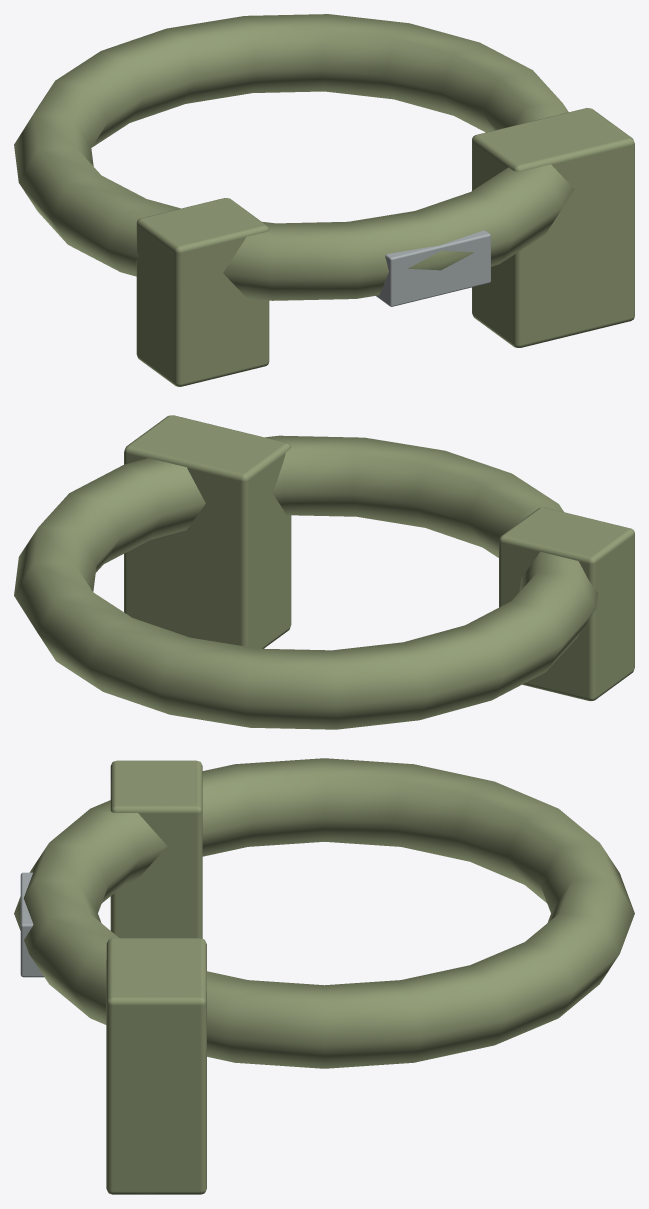
Rendered from backpacks-and-expedition-storage-utility-belt-e730a893__21088.glb.
3 renders of one model, top to bottom at view 1: azimuth 30°, elevation 25°; view 2: azimuth 150°, elevation 25°; view 3: azimuth 270°, elevation 25°, orthographic. The views are drawn at different scales.
Parts seen in each view (by area): view 1: utility-belt; view 2: utility-belt; view 3: utility-belt.
Boxes of the visible parts, x1=… form: utility-belt: x1=14, y1=14, x2=634, y2=386; utility-belt: x1=14, y1=415, x2=634, y2=729; utility-belt: x1=14, y1=758, x2=634, y2=1194.
Size of the model in its own units: 0.37 by 0.13 by 0.37.
